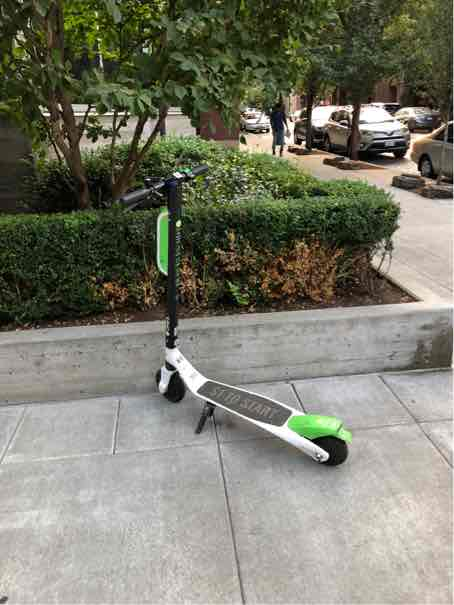scooter: (108, 153, 365, 473)
